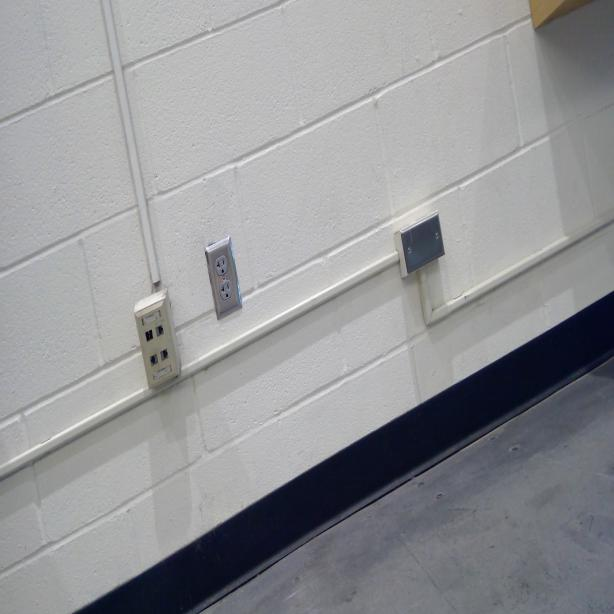typeb: (220, 280, 232, 304), (215, 255, 229, 274)
